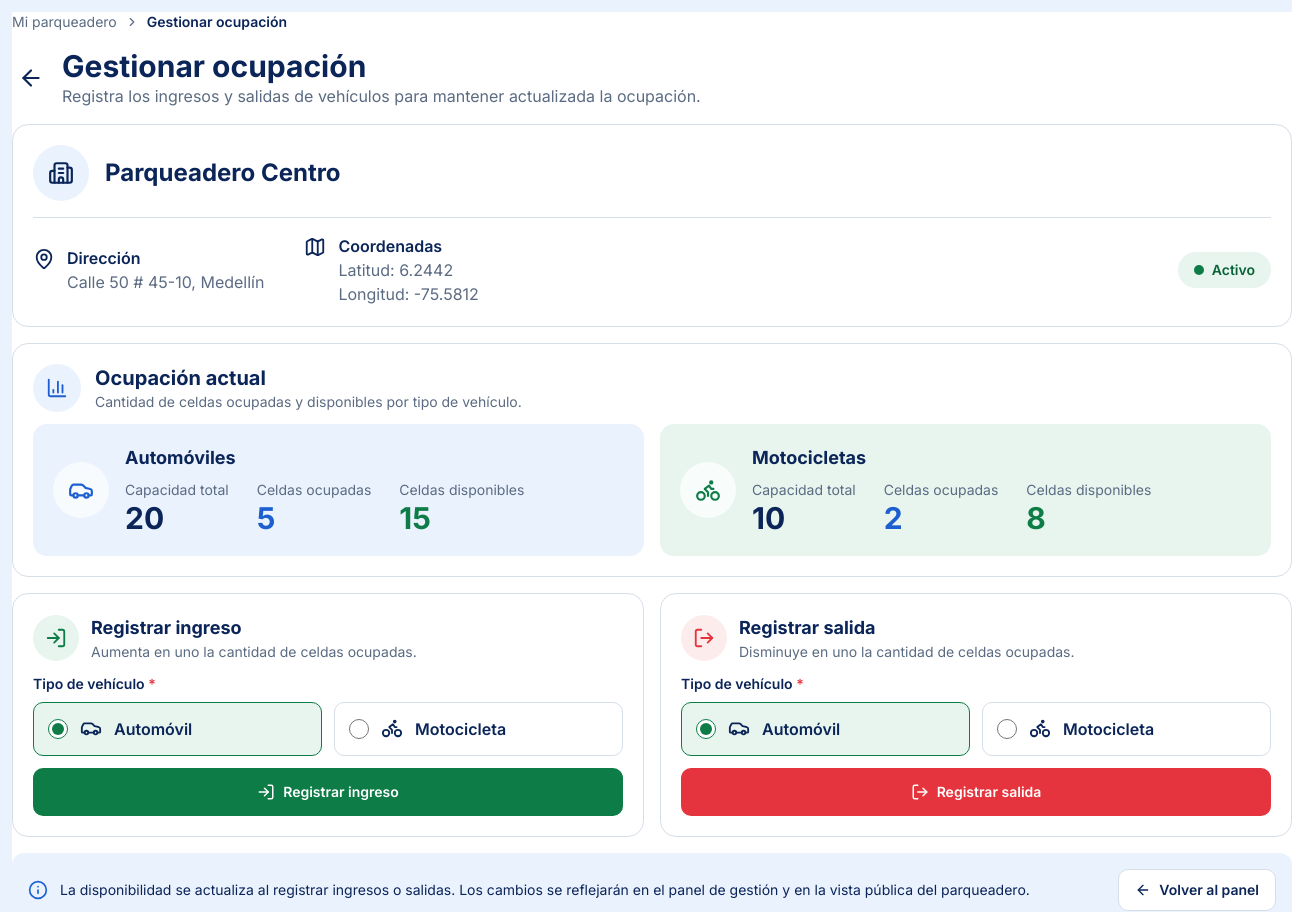
Test: ManageOccupancy › SIN_DISPONIBLES del servidor muestra el mensaje y recarga
The width and height of the screenshot is (1292, 912).
Click the button "Registrar ingreso" at (328, 792), box [33,768,623,816]
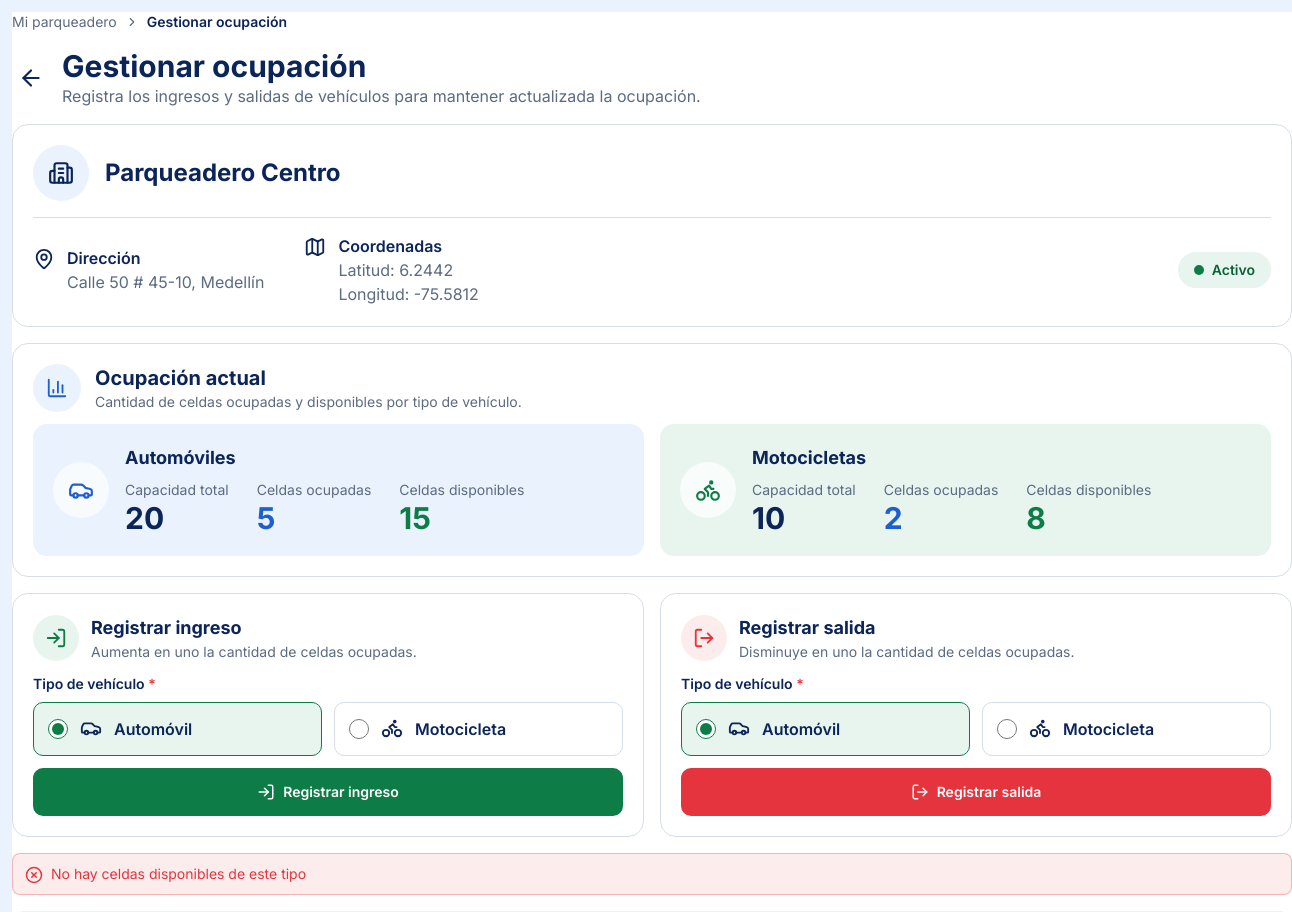
Now the text "No hay celdas disponibles de este tipo" is shown, box [51,864,306,884]
